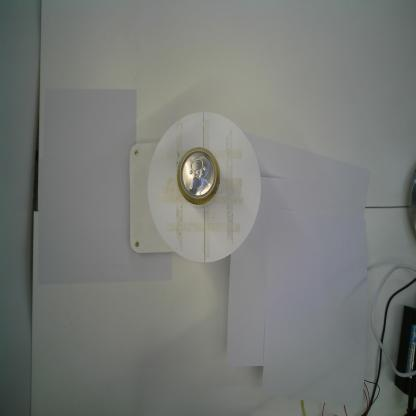Alcohol: (176, 146, 222, 207)
